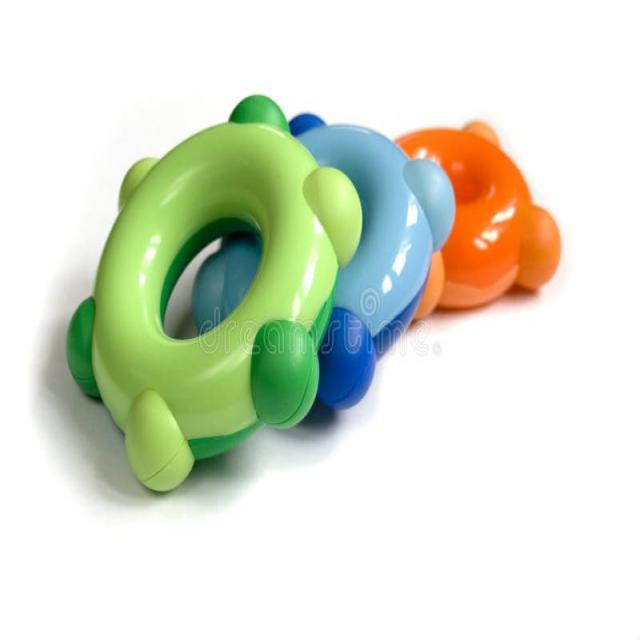hard-toy: (67, 97, 562, 493)
